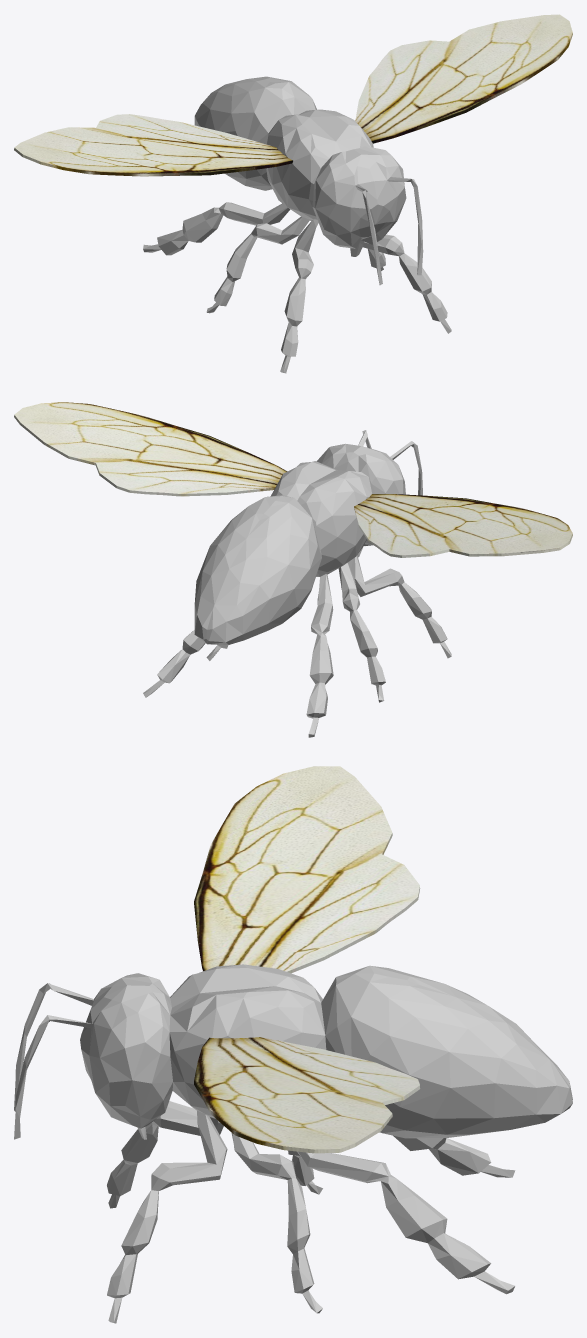
File: Bee.obj
3 views of the same model, one above another, from view 1: azimuth 30°, elevation 25°; view 2: azimuth 150°, elevation 25°; view 3: azimuth 270°, elevation 25° (orthographic). The views are drawn at different scales.
Parts seen in each view (by area): view 1: BeeFBX; view 2: BeeFBX; view 3: BeeFBX.
Boxes of the visible parts, bbox=[...] form: BeeFBX: bbox=[14, 14, 572, 373]; BeeFBX: bbox=[14, 402, 572, 737]; BeeFBX: bbox=[14, 766, 572, 1323].
Bounding box in the file's own units: 7.44 × 2.79 × 4.58.
